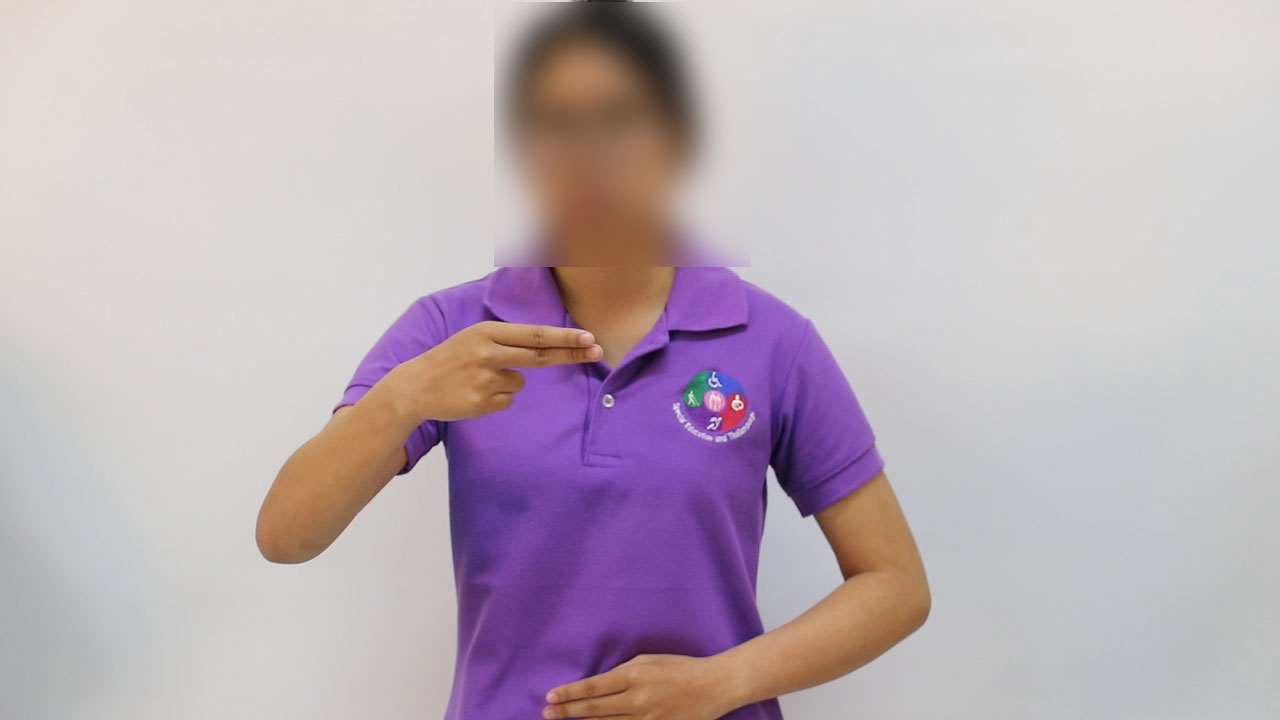hor: (370, 311, 613, 439)
